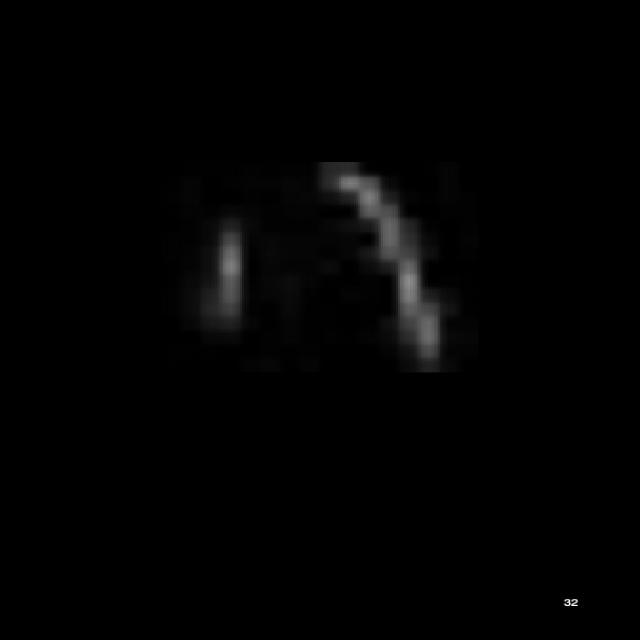8 -eight-: (191, 162, 458, 370)
